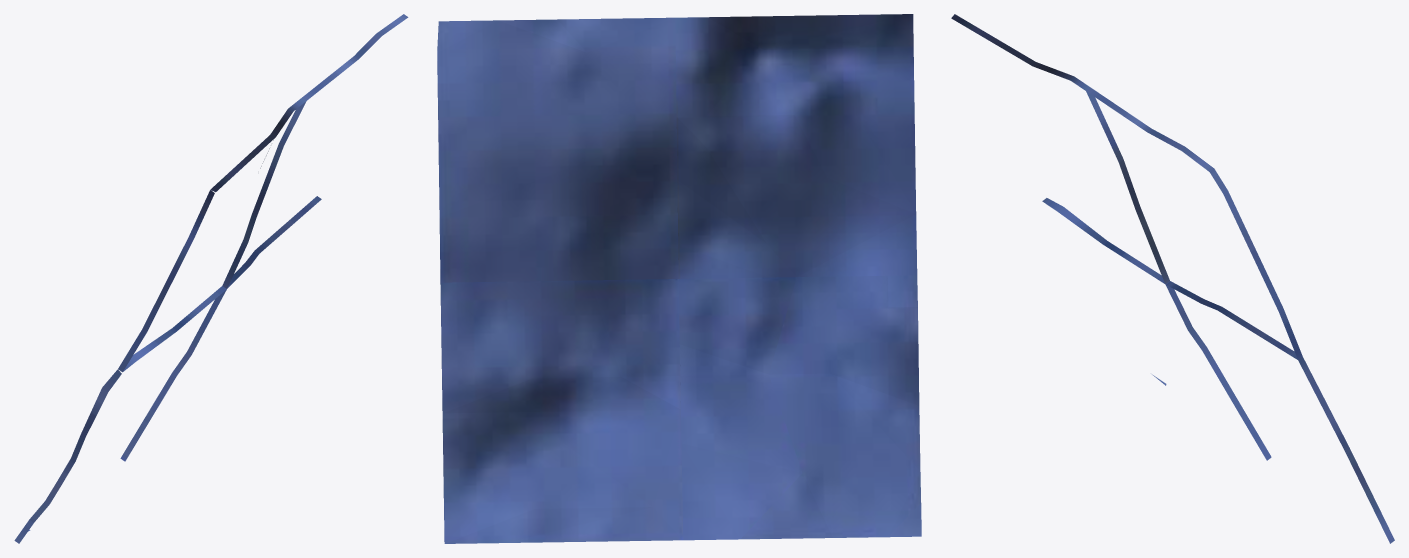
The picture shows the model from 3 angles, left to right: view 1: azimuth 30°, elevation 25°; view 2: azimuth 150°, elevation 25°; view 3: azimuth 270°, elevation 25°; orthographic projection. The views are drawn at different scales.
Bounding box in the file's own units: 19596 × 17953 × 17167.
Materials: 1 (1 with a texture image).
